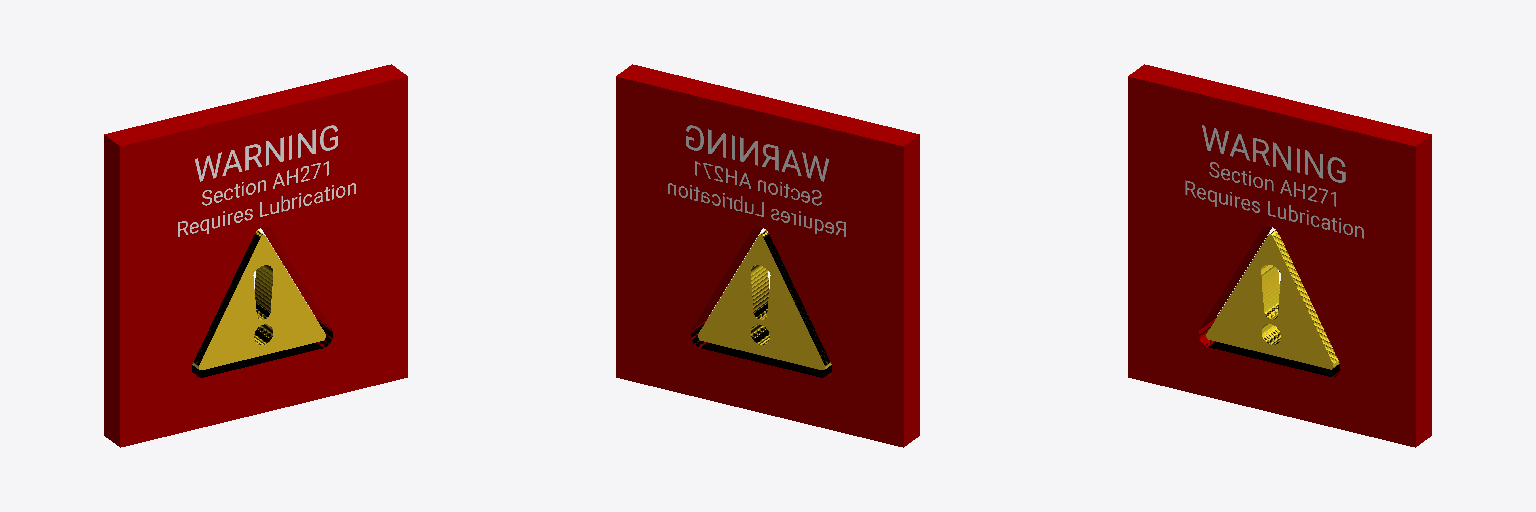
3 views of the same model, side by side, from view 1: azimuth 30°, elevation 25°; view 2: azimuth 150°, elevation 25°; view 3: azimuth 330°, elevation 25° (orthographic).
Parts seen in each view (by area): view 1: Object.1, Object.2; view 2: Object.1, Object.2; view 3: Object.1, Object.2.
Part boxes in pixels (x1,y1,x2,y2): Object.1: (104, 64, 407, 447); Object.2: (192, 230, 325, 369); Object.1: (616, 64, 919, 447); Object.2: (698, 230, 831, 369); Object.1: (1128, 64, 1431, 447); Object.2: (1206, 230, 1339, 369).
Bounding box in the file's own units: 184 × 184 × 18.39.
Materials: 1 (1 with a texture image).